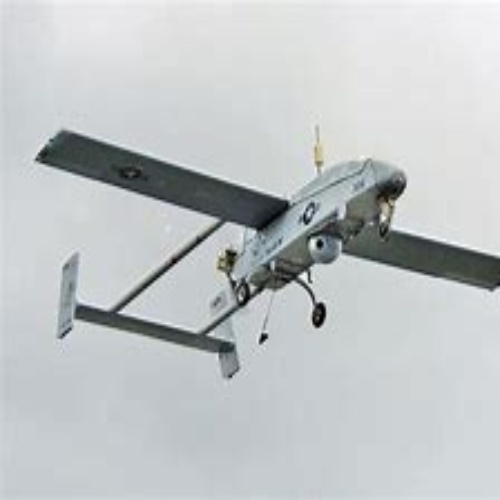uav: (33, 122, 497, 382)
